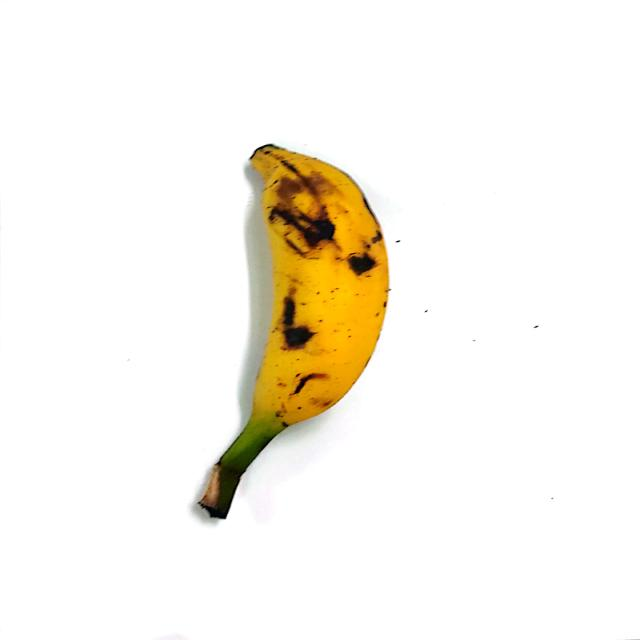fresh_banana: (248, 148, 387, 416)
